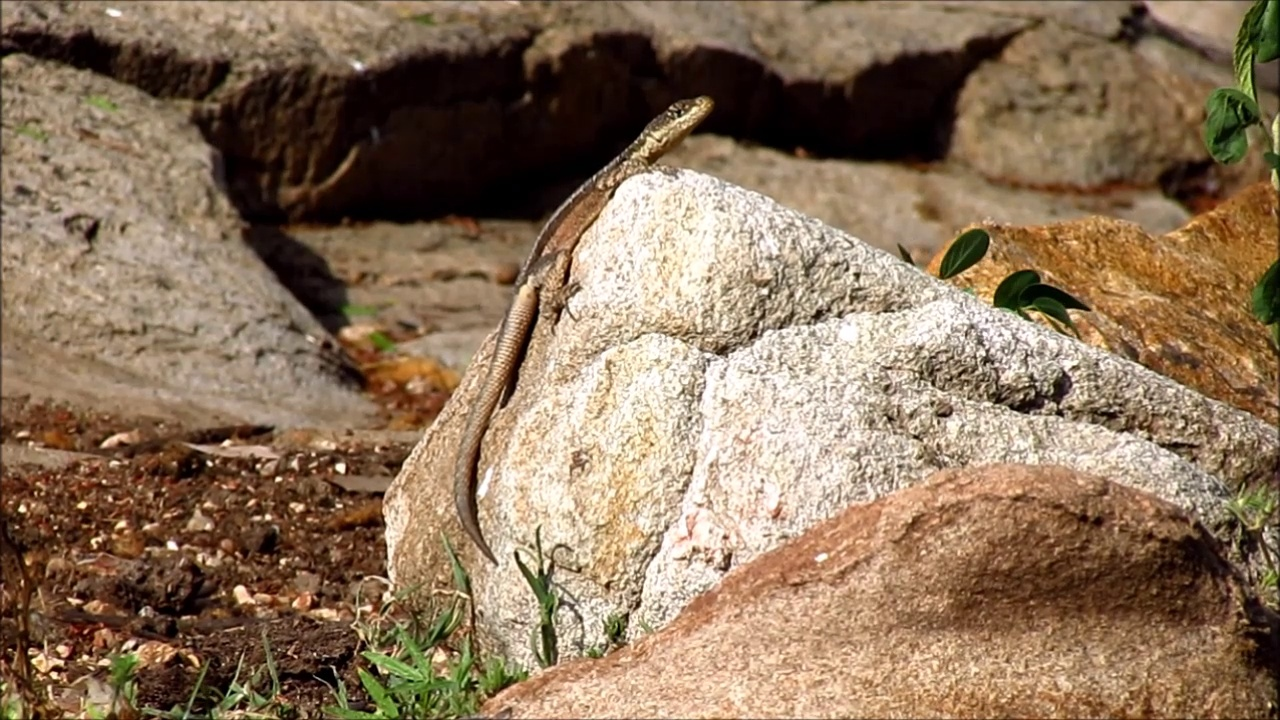body: (453, 127, 642, 568)
head: (643, 95, 713, 155)
